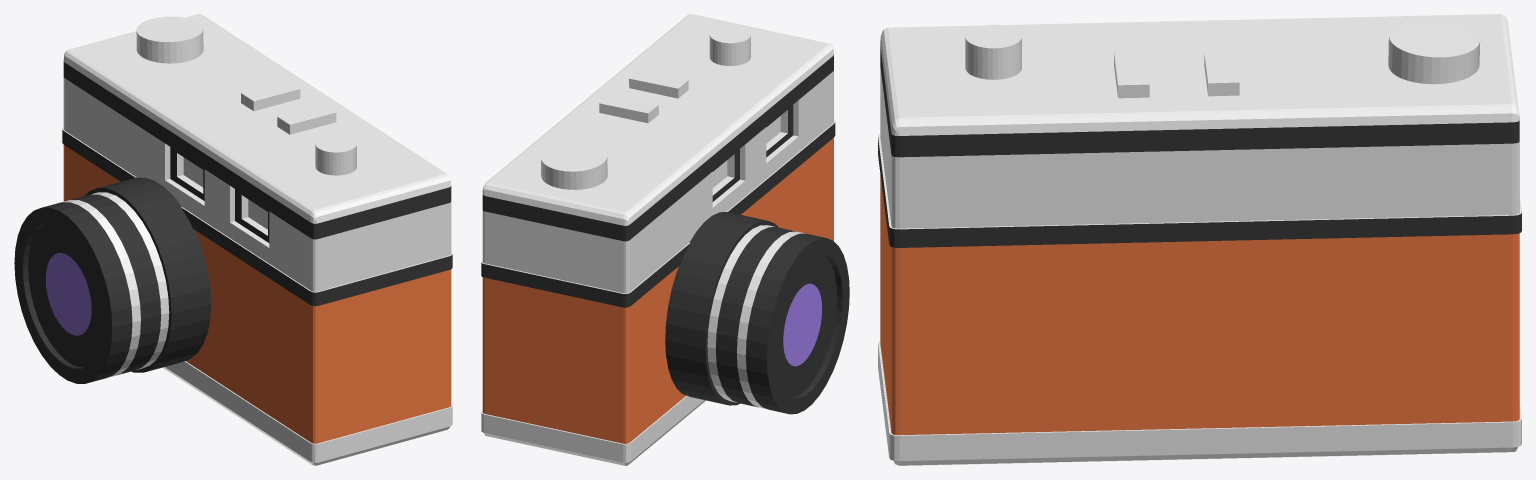
The model's file is Camera.glb.
3 views of the same model, side by side, from view 1: azimuth 30°, elevation 25°; view 2: azimuth 150°, elevation 25°; view 3: azimuth 270°, elevation 25° (orthographic). The views are drawn at different scales.
Parts seen in each view (by area): view 1: Box20179, Cylinder001, Cylinder003, Object002; view 2: Box20179, Cylinder001, Cylinder003, Object002; view 3: Box20179, Cylinder003.
Part boxes in pixels (<box>): Box20179: <box>62,14,452,465</box>; Cylinder001: <box>14,177,211,383</box>; Cylinder003: <box>136,16,356,175</box>; Object002: <box>45,253,91,335</box>; Box20179: <box>481,14,835,465</box>; Cylinder001: <box>665,212,849,414</box>; Cylinder003: <box>541,25,750,189</box>; Object002: <box>783,283,822,366</box>; Box20179: <box>878,14,1521,465</box>; Cylinder003: <box>965,18,1480,98</box>.
Bounding box in the file's own units: 392 × 403 × 619.
